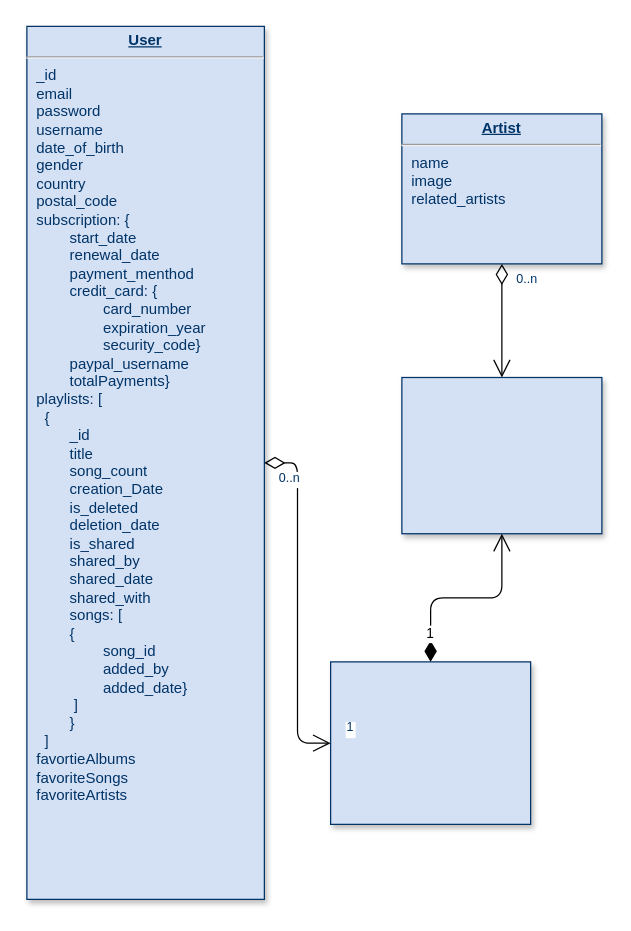
Image size: 631x931. Some labels were removed from this diagram. The centre of each missing label's shape, as x and y in pixels:
Album title duration play_count album_id: (502,456)
Song title duration play_count album_id: (431,744)
